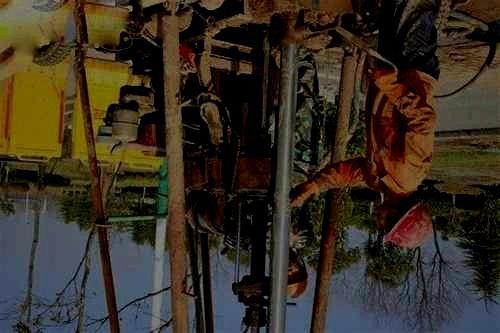helmet: (374, 198, 434, 248), (287, 249, 309, 300)
